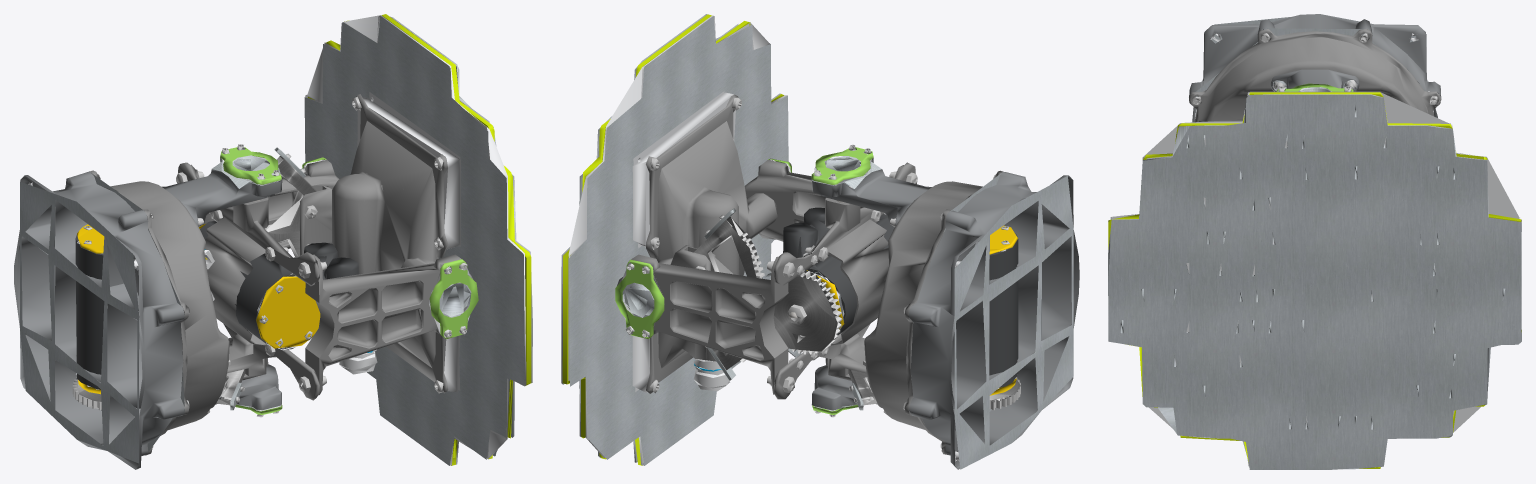
Rendered from radar.glb.
3 views of the same model, side by side, from view 1: azimuth 30°, elevation 25°; view 2: azimuth 150°, elevation 25°; view 3: azimuth 270°, elevation 25° (orthographic). The views are drawn at different scales.
Visible parts, largest first — view 1: Object_39, Object_12, Object_7, Object_50, Object_4, Object_14, Object_10, Object_3, Object_18, Object_53, Object_15, Object_47 (+1 smaller); view 2: Object_12, Object_39, Object_7, Object_50, Object_4, Object_53, Object_10, Object_18, Object_3, Object_15, Object_47, Object_14 (+1 smaller); view 3: Object_15, Object_39, Object_7, Object_50, Object_3, Object_12, Object_18.
Part boxes in pixels (box(x1,y1,x2,y2)): Object_39: box(90, 94, 472, 455); Object_12: box(20, 15, 525, 465); Object_7: box(14, 157, 282, 469); Object_50: box(75, 15, 526, 465); Object_4: box(75, 220, 358, 389); Object_14: box(77, 224, 320, 394); Object_10: box(220, 147, 478, 414); Object_3: box(307, 14, 531, 465); Object_18: box(83, 96, 467, 447); Object_53: box(76, 156, 316, 408); Object_15: box(230, 16, 532, 464); Object_47: box(72, 159, 303, 410); Object_12: box(569, 16, 1073, 469); Object_39: box(617, 94, 1003, 454); Object_7: box(812, 158, 1079, 469); Object_50: box(568, 15, 1006, 465); Object_4: box(783, 207, 1018, 387); Object_53: box(694, 217, 1020, 406); Object_10: box(615, 147, 873, 414); Object_18: box(626, 97, 1009, 448); Object_3: box(562, 14, 784, 465); Object_15: box(561, 14, 863, 462); Object_47: box(708, 218, 1020, 410); Object_14: box(807, 225, 1017, 395); Object_15: box(1108, 94, 1521, 469); Object_39: box(1189, 28, 1441, 122); Object_7: box(1189, 14, 1441, 122); Object_50: box(1111, 88, 1520, 466); Object_3: box(1108, 92, 1521, 468); Object_12: box(1110, 15, 1521, 456); Object_18: box(1192, 33, 1437, 104).
Size of the model in its own units: 0.2266 by 0.252 by 0.2519.
26 materials, 4 textured.
